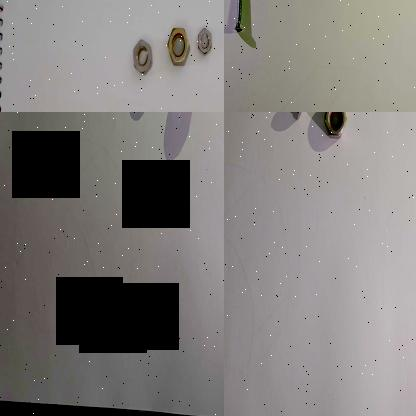Bolts: (230, 0, 246, 33)
NUTS: (320, 112, 350, 154), (164, 24, 190, 70), (128, 35, 152, 76), (193, 24, 213, 60), (285, 112, 307, 133)
